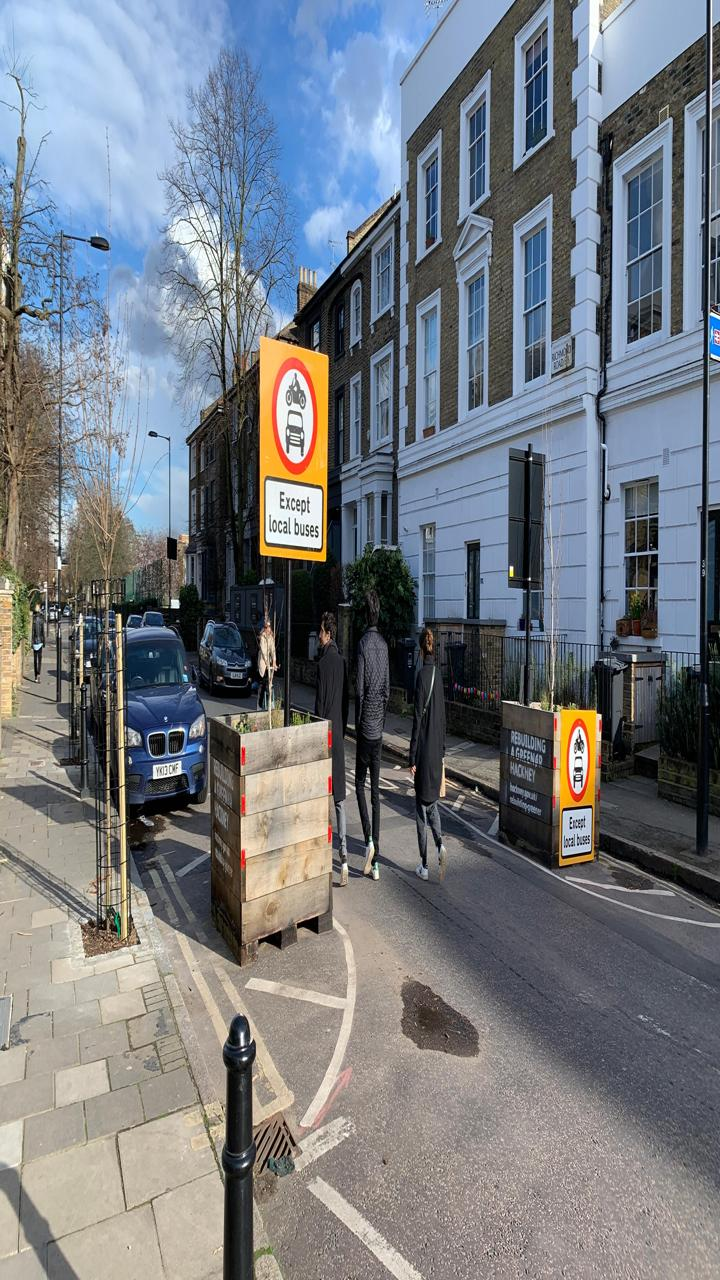Traffic sign: (247, 328, 335, 576), (550, 683, 609, 883)
pedestrian: (408, 625, 455, 889), (349, 599, 392, 875), (315, 596, 358, 872), (27, 585, 58, 713)
vehicle: (79, 632, 211, 817)
